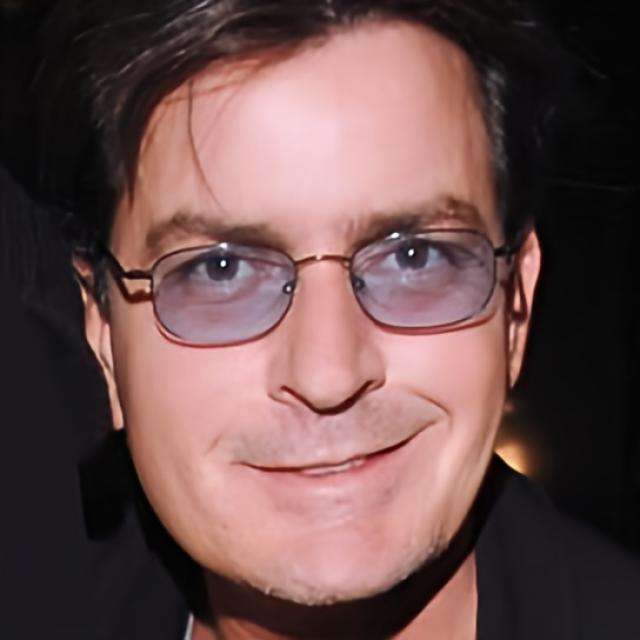content: (112, 14, 510, 608)
